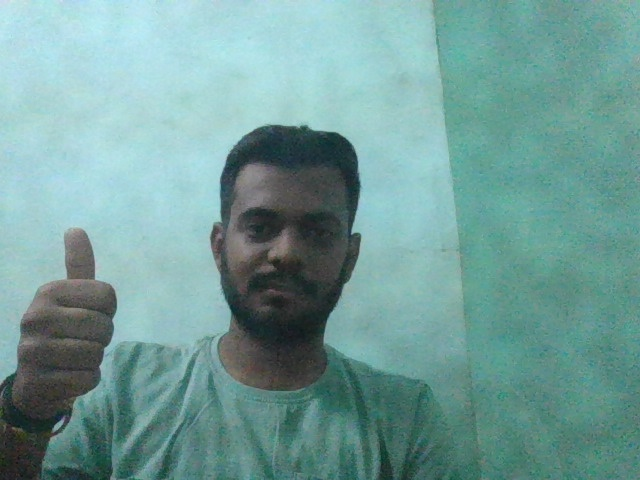yes: (14, 224, 123, 427)
